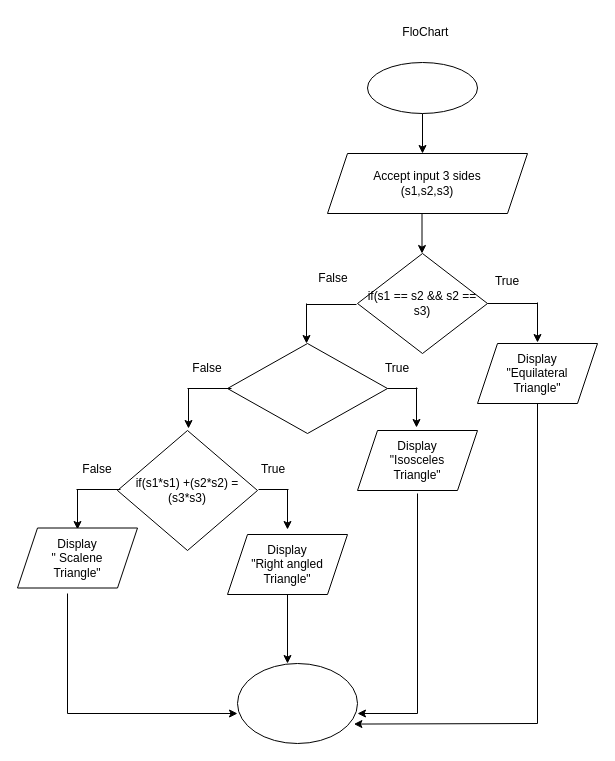
The diagram is 615 pixels wide and 761 high, and some of its shapes have lost their labels. The shapes that lost their labels are listed below. From the top down, each one's centre as x and y in pixels, then its label:
At point (422, 88): "Start".
At point (307, 388): "if(s1 ==s2 || s1 == s3 || s2 ==s3)".
At point (297, 703): "End".
